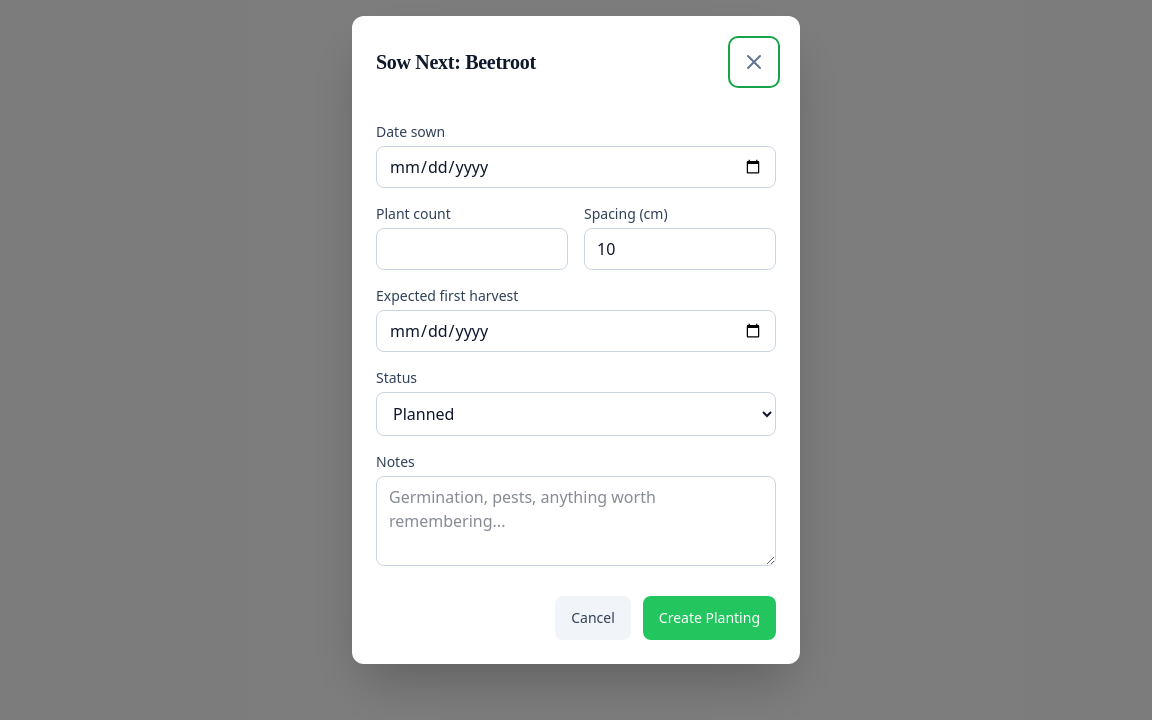
Test: PlantingList › a succession pre-fills from its parent and persists previousPlantingId
(page scrolled)
Expected: the number field labelled "Spacing (cm)" holds "10", [584,228,776,270]
What coordinates should you click on to do the following:
click the button "Create Planting"
I would click on:
 (709, 618)
Its box is [643,596,776,640].
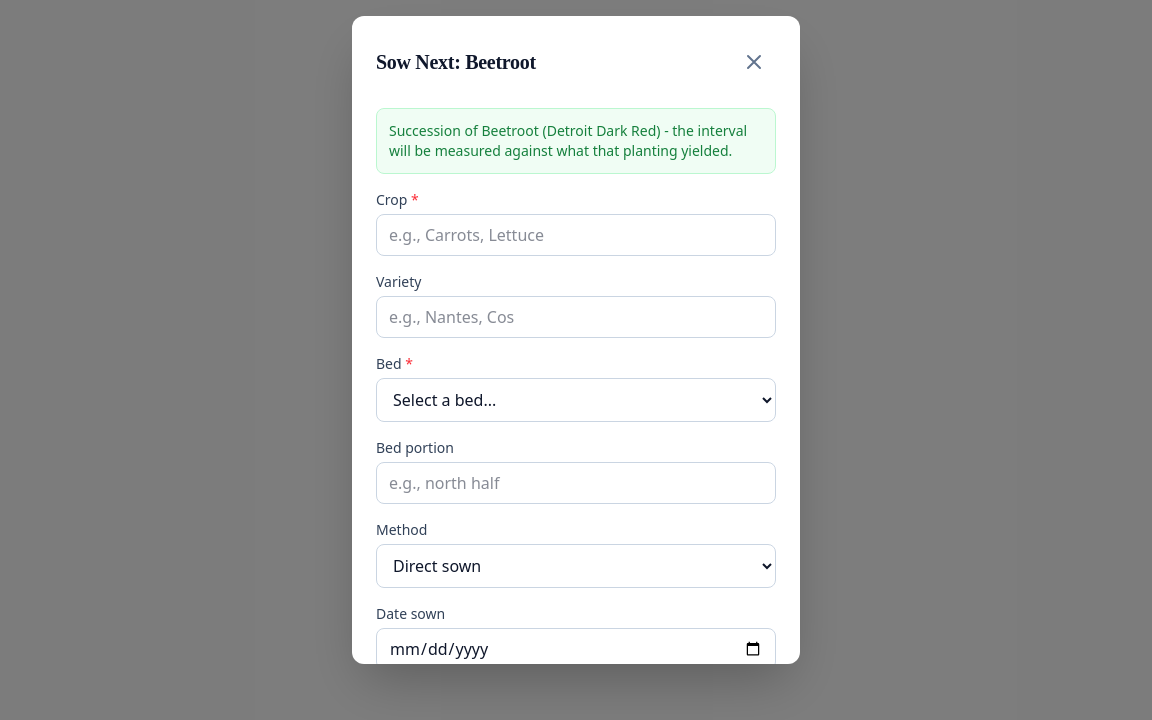
Expected: the text "Beetroot" is shown, [481,121,539,140]
